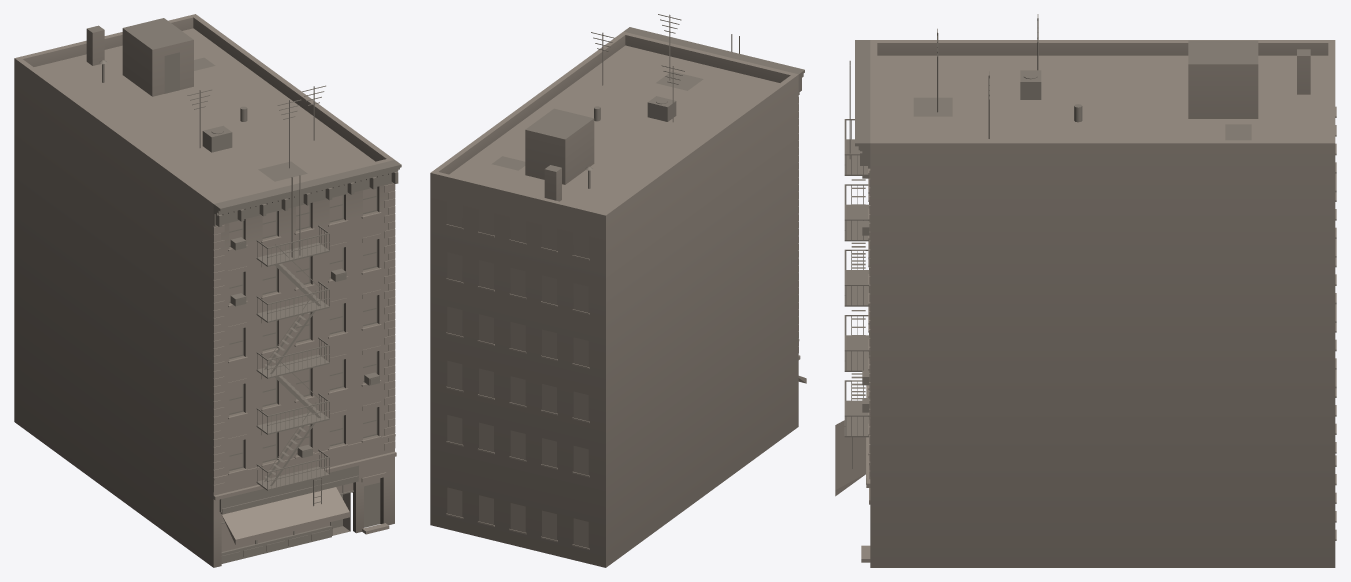
Rendered from tenement_d.glb.
3 renders of one model, left to right at view 1: azimuth 30°, elevation 25°; view 2: azimuth 150°, elevation 25°; view 3: azimuth 270°, elevation 25°, orthographic. The views are drawn at different scales.
Visible parts, largest first — view 1: tenement_d; view 2: tenement_d; view 3: tenement_d.
Boxes of the visible parts, bbox=[...] form: tenement_d: bbox=[14, 14, 401, 567]; tenement_d: bbox=[430, 14, 806, 567]; tenement_d: bbox=[835, 14, 1336, 567].
Size of the model in its own units: 10.5 by 23.31 by 21.55.
